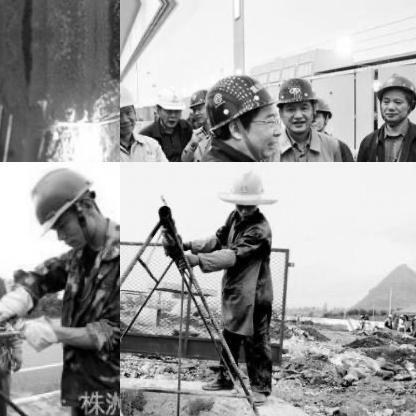Helmet: (20, 162, 108, 252), (212, 72, 276, 154), (272, 74, 314, 140), (220, 165, 268, 221), (374, 66, 415, 126), (155, 77, 185, 129), (120, 70, 135, 138), (187, 85, 211, 127), (311, 95, 331, 129)
